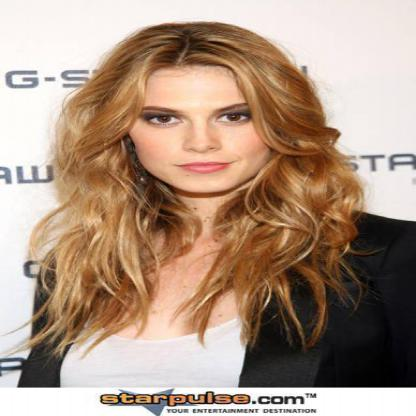long-hair: (24, 196, 373, 257)
